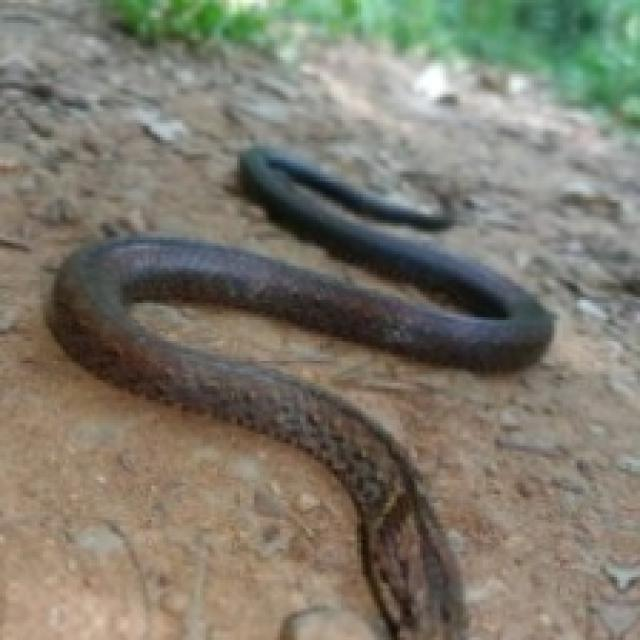reinhardts lined snake: (49, 146, 551, 637)
